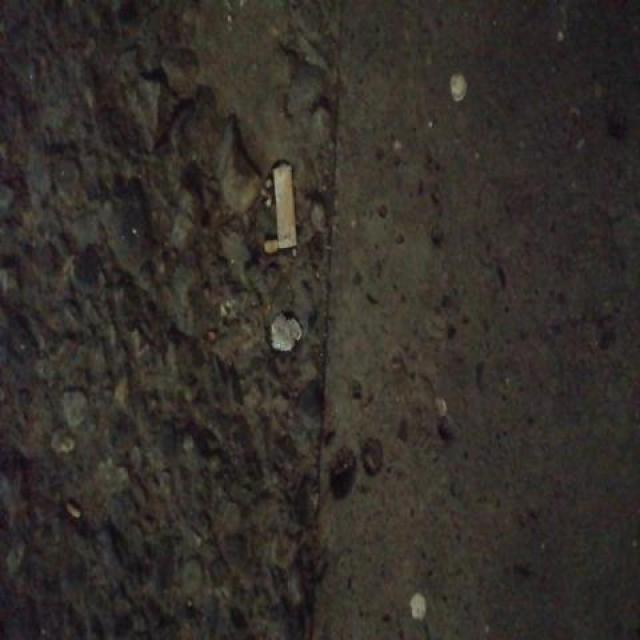non-organic waste: (267, 154, 302, 254)
